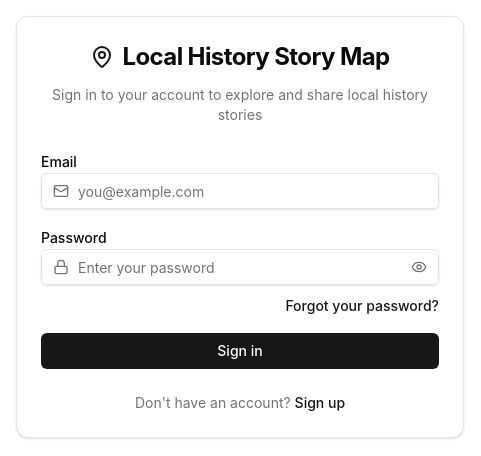
Test case: LoginPage › toggles password visibility
Click the button named "show password": {"x": 419, "y": 267} [411, 259, 427, 275]
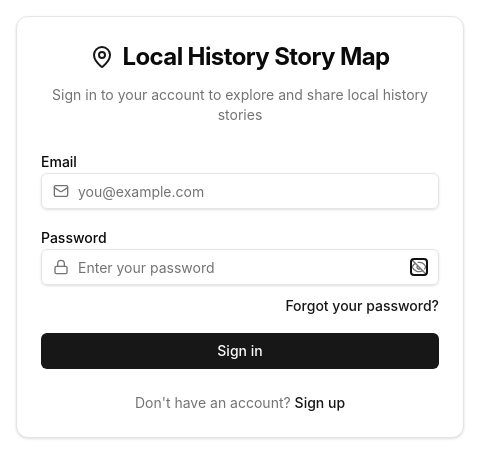
Check: the field labelled "Password" shows its text, box [41, 249, 439, 285]
